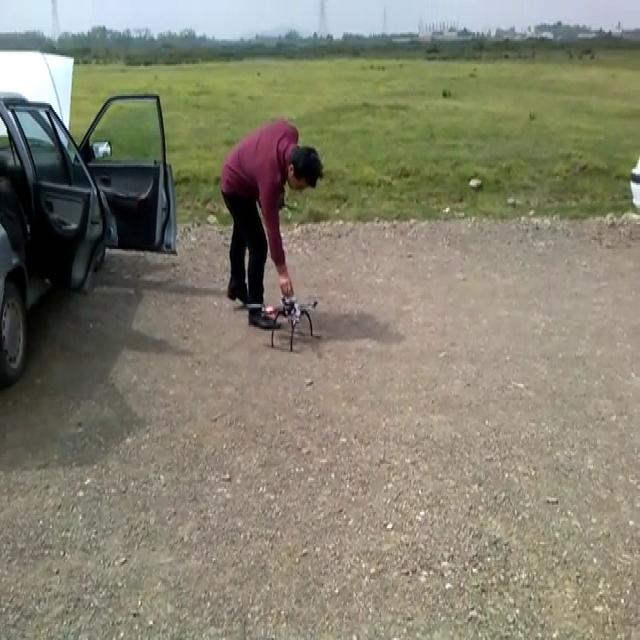drone: (245, 294, 320, 351)
